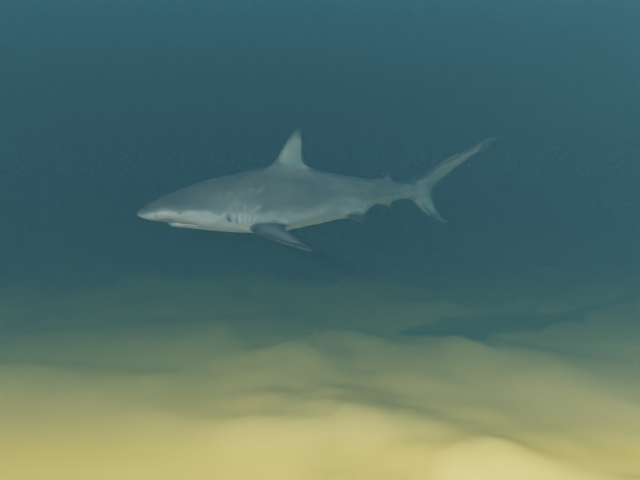Carribean Shark.001: (136, 128, 496, 251)
